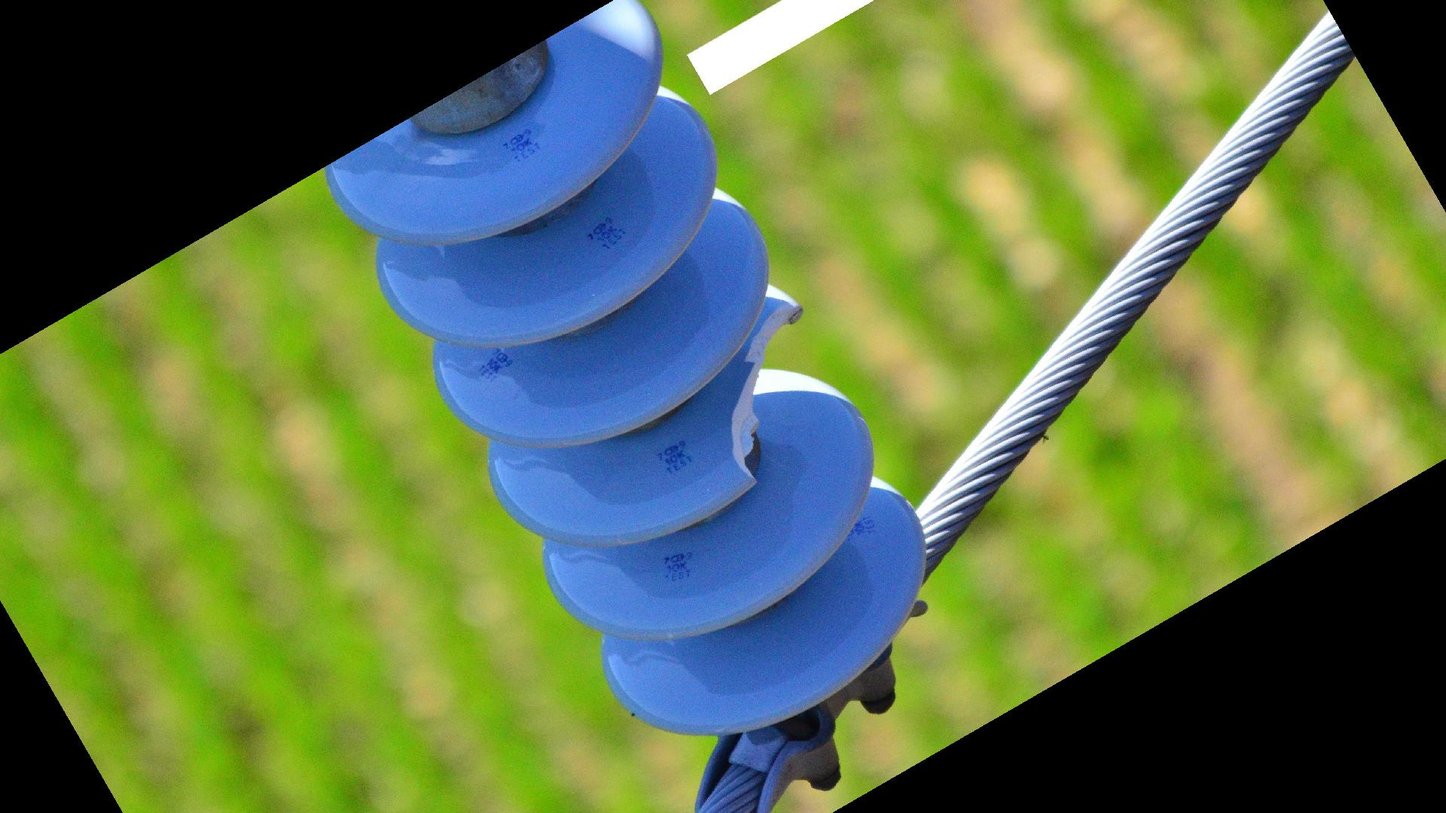insulator: (316, 1, 933, 744)
insulator_breakage: (722, 291, 813, 499)
